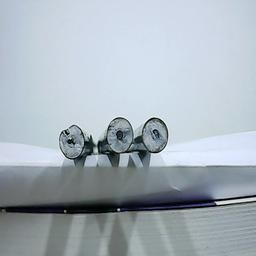pen: (141, 116, 170, 154), (105, 115, 134, 153), (58, 124, 86, 160)
